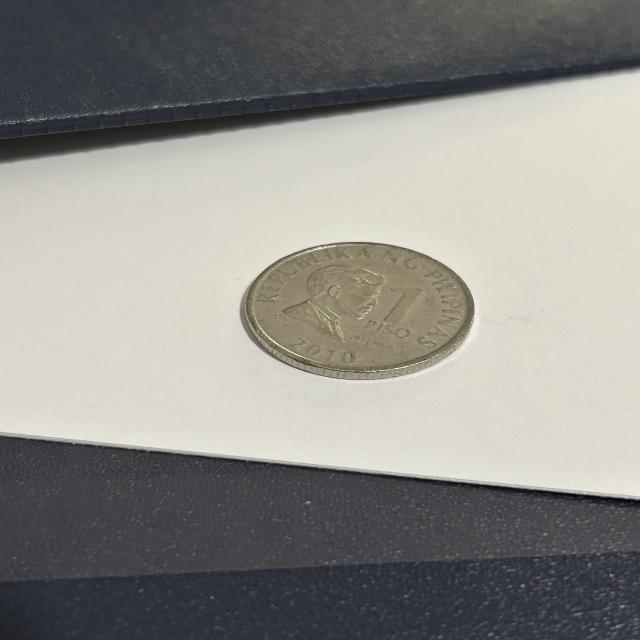1_Old_Front: (363, 278, 429, 342)
